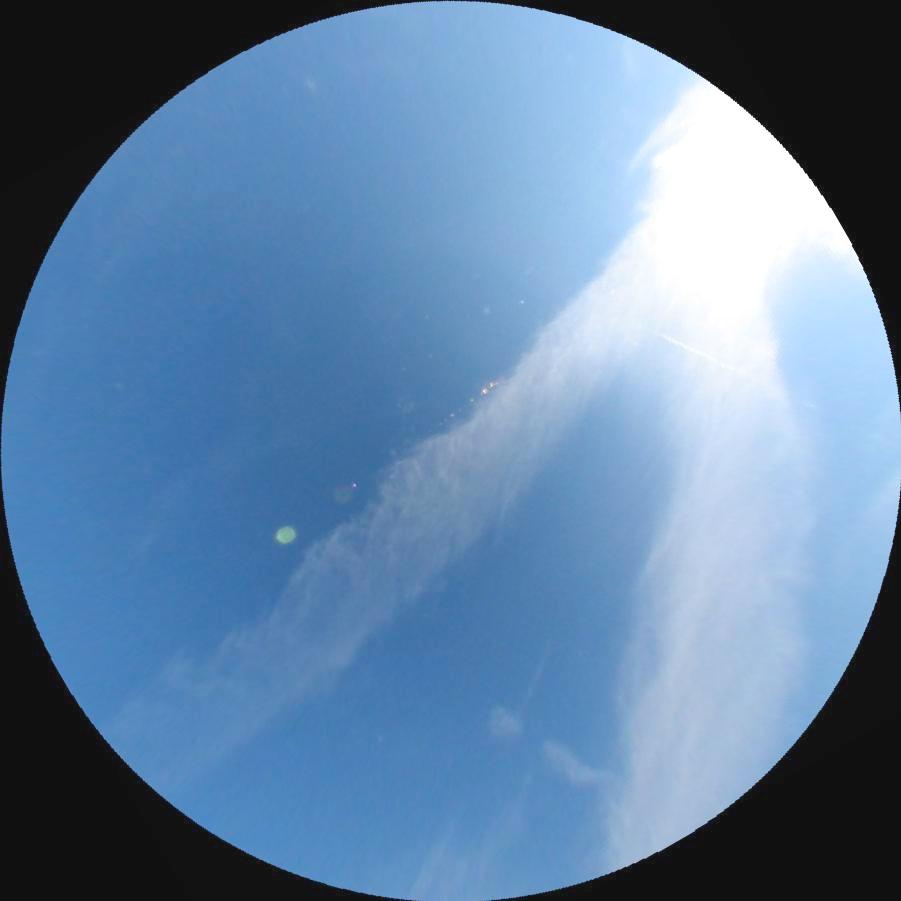contrail veryold: (99, 215, 728, 813), (478, 701, 623, 802)
contrail young: (660, 332, 749, 378)
unknow: (514, 647, 551, 714)
